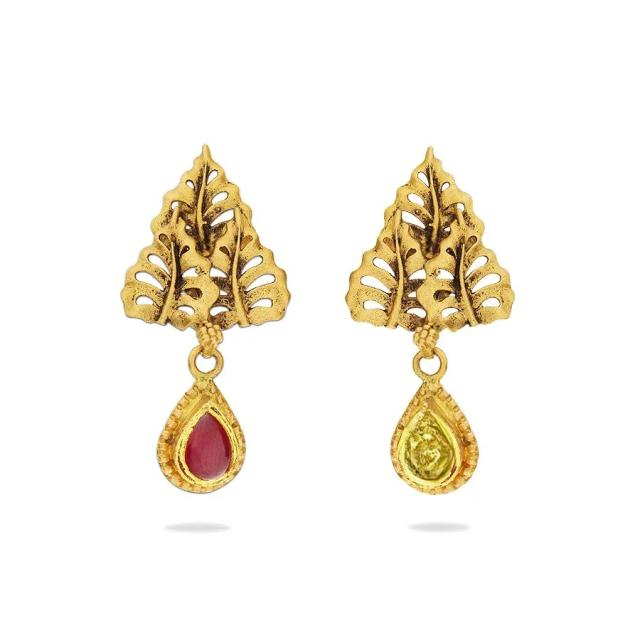missing gem: (398, 399, 466, 487)
